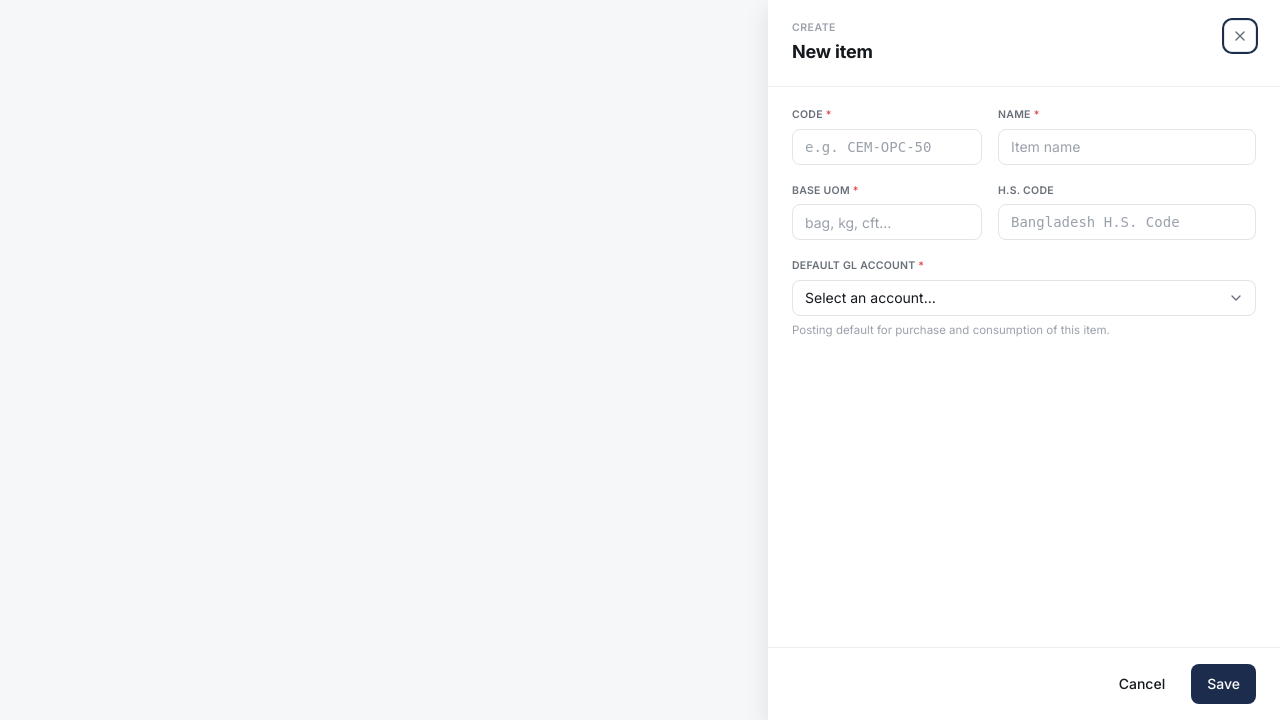
Test: ItemFormDrawer — validation + mapping › requires code, name, base unit, default account (FR-MAS-025/027)
The width and height of the screenshot is (1280, 720).
Click the button with test id "item-save".
click(1224, 684)  # box top-left (1191, 664), bottom-right (1256, 704)
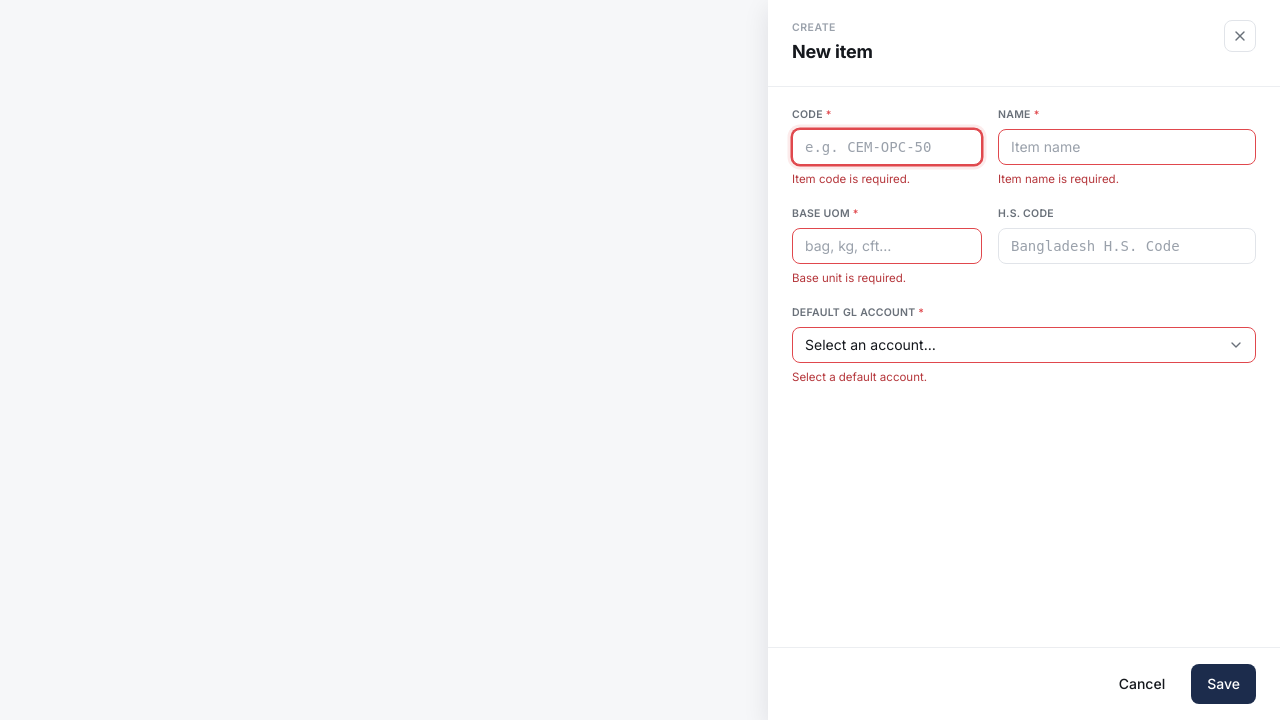
Check: the text "Item code is required." is shown, box top-left (792, 172), bottom-right (910, 186)
Check: the text "Base unit is required." is shown, box top-left (792, 270), bottom-right (906, 284)
Check: the text "Select a default account." is shown, box top-left (792, 370), bottom-right (927, 384)
